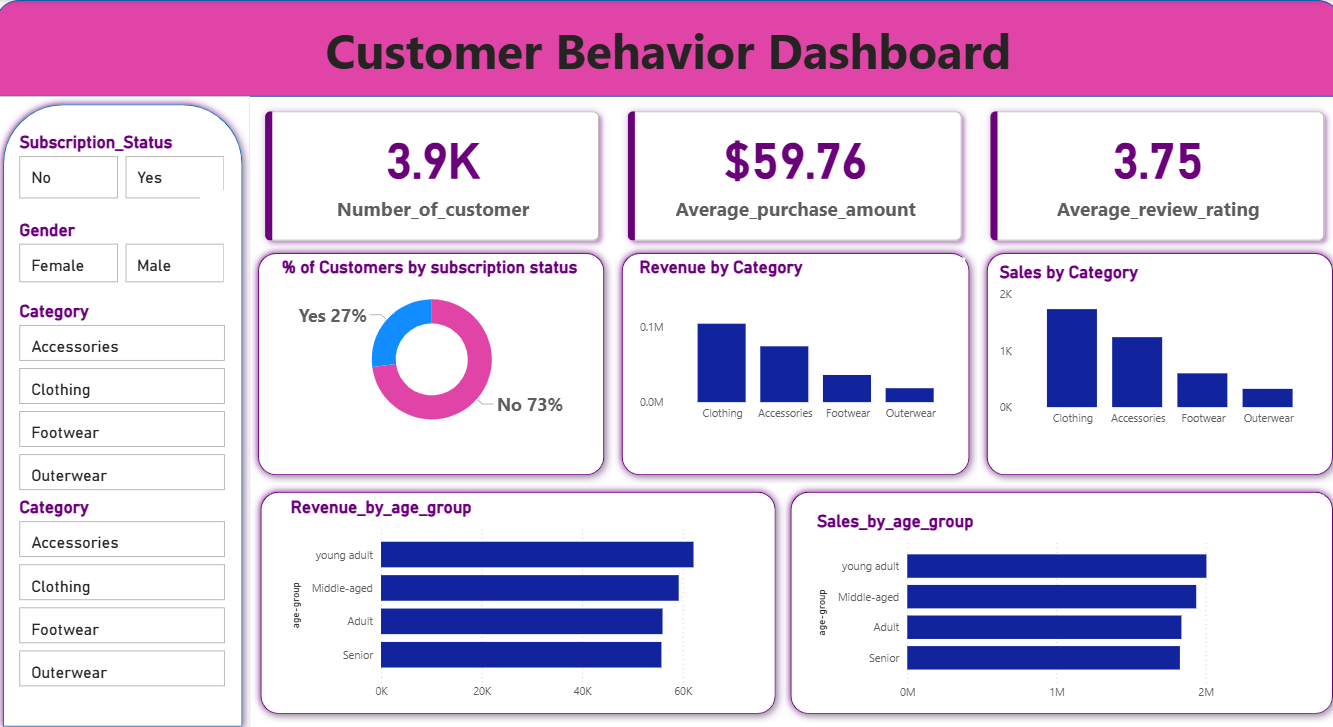

The dashboard page shown, as its layout file describes it:
{"tool":"powerbi","page":{"name":"Page 1","canvas":[1500,820],"ordinal":0},"visuals":[{"type":"cardVisual","fields":{"Data":["updated_customer_trends.Number_of_customer","updated_customer_trends.Average_purchase_amount","updated_customer_trends.Average_review_rating"]},"box":[284.6,107.7,1215.7,178.5],"z":0},{"type":"shape","box":[0,0,1500.3,107.7],"z":1000},{"type":"textbox","box":[0,14.5,1500.3,93.3],"z":2000},{"type":"shape","box":[284.6,273.4,403.6,265.3],"z":3000},{"type":"donutChart","title":"% of Customers by subscription status","fields":{"Category":["updated_customer_trends.subscription_status"],"Y":["CountNonNull(updated_customer_trends.customer_id)"]},"box":[315.2,286.2,344.1,205.8],"z":4000},{"type":"shape","box":[689.9,273.4,405.2,265.3],"z":5000},{"type":"shape","box":[1096.7,273.4,403.6,265.3],"z":6000},{"type":"clusteredColumnChart","title":"Revenue by Category","fields":{"Category":["updated_customer_trends.category"],"Y":["Sum(updated_customer_trends.purchase_amount)"]},"box":[712.4,286.2,368.2,191.4],"z":7000},{"type":"clusteredColumnChart","title":"Sales by Category","fields":{"Category":["updated_customer_trends.category"],"Y":["CountNonNull(updated_customer_trends.customer_id)"]},"box":[1114.4,292.7,368.2,191.4],"z":8000},{"type":"shape","box":[0,107.7,284.6,712.4],"z":9000},{"type":"advancedSlicerVisual","title":"Subscription_Status","fields":{"Values":["updated_customer_trends.subscription_status"]},"box":[22.5,147.9,239.6,78.8],"z":10000},{"type":"advancedSlicerVisual","title":"Gender","fields":{"Values":["updated_customer_trends.gender"]},"box":[22.5,244.4,239.6,75.6],"z":11000},{"type":"advancedSlicerVisual","title":"Category","fields":{"Values":["updated_customer_trends.category"]},"box":[22.5,336.1,239.6,218.7],"z":12000},{"type":"advancedSlicerVisual","title":"Category","fields":{"Values":["updated_customer_trends.category"]},"box":[22.5,554.8,239.6,218.7],"z":13000},{"type":"shape","box":[286.2,538.7,591.8,265.3],"z":14000},{"type":"clusteredBarChart","title":"Revenue_by_age_group","fields":{"Y":["Sum(updated_customer_trends.purchase_amount)"],"Category":["updated_customer_trends.age-group"]},"box":[324.8,554.8,513,234.8],"z":15000},{"type":"shape","box":[878,538.7,622.3,265.3],"z":16000},{"type":"clusteredBarChart","title":"Sales_by_age_group","fields":{"Category":["updated_customer_trends.age-group"],"Y":["Sum(updated_customer_trends.customer_id)"]},"box":[910.2,569.3,540.3,220.3],"z":17000}]}

Visuals, with their boxes in screenshot pixels (x1, y1, x2, y2), scaled from the page's 1500x820 canvas onto the 1333x727 screenshot:
cardVisual - updated_customer_trends.Number_of_customer x updated_customer_trends.Average_purchase_amount: bbox=(253, 95, 1332, 254)
shape: bbox=(0, 0, 1332, 95)
textbox: bbox=(0, 13, 1332, 96)
shape: bbox=(253, 242, 612, 478)
"% of Customers by subscription status" donutChart: bbox=(280, 254, 586, 436)
shape: bbox=(613, 242, 973, 478)
shape: bbox=(975, 242, 1332, 478)
"Revenue by Category" clusteredColumnChart: bbox=(633, 254, 960, 423)
"Sales by Category" clusteredColumnChart: bbox=(990, 260, 1318, 429)
shape: bbox=(0, 95, 253, 726)
"Subscription_Status" advancedSlicerVisual: bbox=(20, 131, 233, 201)
"Gender" advancedSlicerVisual: bbox=(20, 217, 233, 284)
"Category" advancedSlicerVisual: bbox=(20, 298, 233, 492)
"Category" advancedSlicerVisual: bbox=(20, 492, 233, 686)
shape: bbox=(254, 478, 780, 713)
"Revenue_by_age_group" clusteredBarChart: bbox=(289, 492, 745, 700)
shape: bbox=(780, 478, 1332, 713)
"Sales_by_age_group" clusteredBarChart: bbox=(809, 505, 1289, 700)
